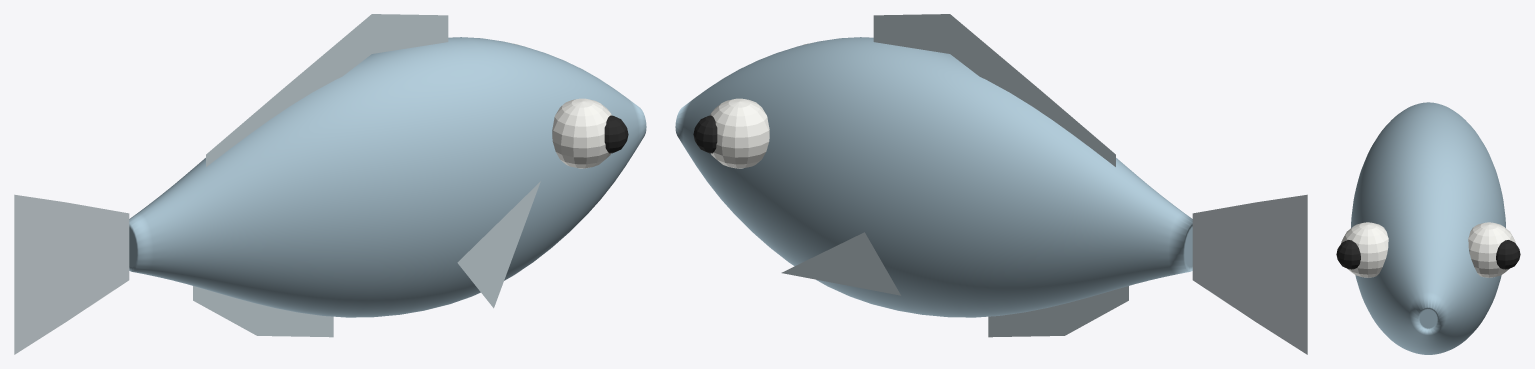
The model's file is zebra.glb.
The picture shows the model from 3 angles, left to right: view 1: azimuth 30°, elevation 25°; view 2: azimuth 150°, elevation 25°; view 3: azimuth 270°, elevation 25°; orthographic projection. The views are drawn at different scales.
Visible parts, largest first — view 1: zebra_body, zebra_tail, zebra_dorsal, zebra_anal, zebra_pec_R, zebra_eyew_R, zebra_eye_R; view 2: zebra_body, zebra_tail, zebra_dorsal, zebra_anal, zebra_pec_L, zebra_eyew_L, zebra_eye_L; view 3: zebra_body, zebra_eyew_L, zebra_eyew_R, zebra_eye_L, zebra_eye_R.
Boxes of the visible parts, x1=… form: zebra_body: x1=129, y1=37, x2=646, y2=317; zebra_tail: x1=14, y1=194, x2=129, y2=354; zebra_dorsal: x1=206, y1=14, x2=448, y2=166; zebra_anal: x1=193, y1=286, x2=333, y2=337; zebra_pec_R: x1=457, y1=181, x2=540, y2=308; zebra_eyew_R: x1=552, y1=98, x2=611, y2=168; zebra_eye_R: x1=604, y1=115, x2=628, y2=153; zebra_body: x1=675, y1=37, x2=1192, y2=317; zebra_tail: x1=1192, y1=194, x2=1307, y2=354; zebra_dorsal: x1=873, y1=14, x2=1115, y2=166; zebra_anal: x1=988, y1=286, x2=1128, y2=337; zebra_pec_L: x1=781, y1=232, x2=900, y2=295; zebra_eyew_L: x1=710, y1=98, x2=769, y2=168; zebra_eye_L: x1=693, y1=115, x2=717, y2=153; zebra_body: x1=1351, y1=102, x2=1505, y2=354; zebra_eyew_L: x1=1468, y1=222, x2=1515, y2=277; zebra_eyew_R: x1=1341, y1=222, x2=1388, y2=277; zebra_eye_L: x1=1496, y1=240, x2=1520, y2=269; zebra_eye_R: x1=1336, y1=240, x2=1360, y2=269.
Bounding box in the file's own units: 0.49 × 0.235 × 0.158.
